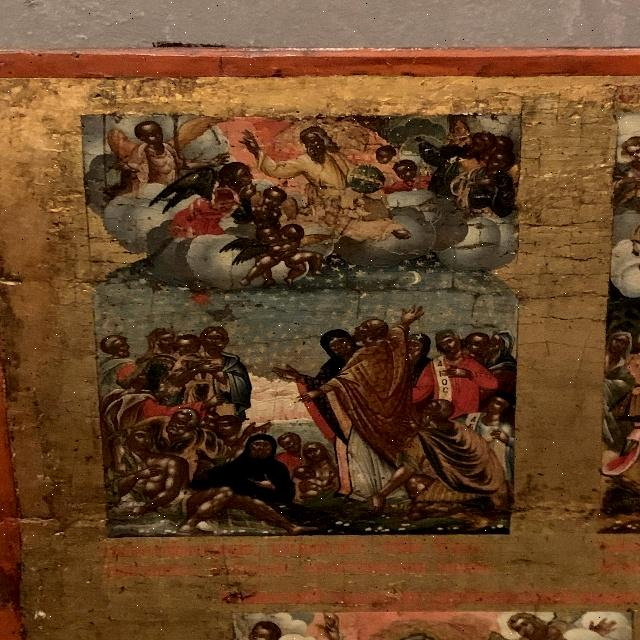angel: (96, 111, 230, 195)
aura: (292, 121, 341, 158)
father: (243, 117, 393, 219)
wing: (153, 167, 221, 206), (169, 114, 233, 151), (109, 126, 136, 170), (220, 234, 258, 254), (239, 244, 268, 265), (300, 232, 337, 248), (280, 198, 303, 221)
